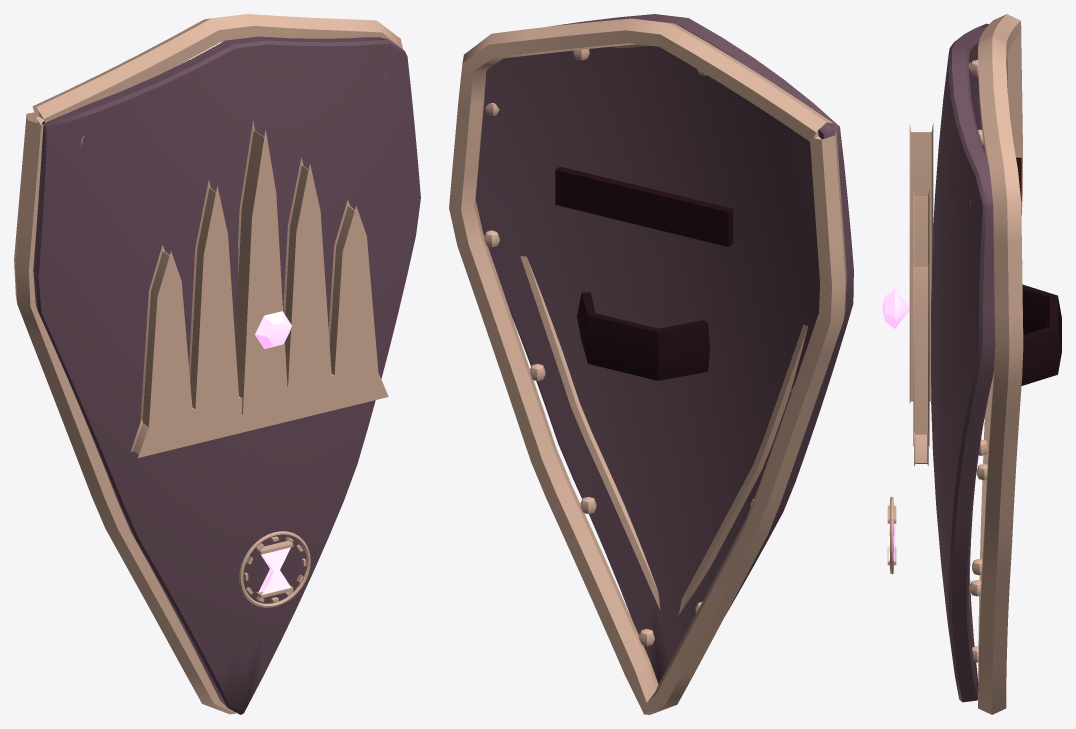
The model's file is asc_aeonbreaker_shield.glb.
The picture shows the model from 3 angles, left to right: view 1: azimuth 30°, elevation 25°; view 2: azimuth 150°, elevation 25°; view 3: azimuth 270°, elevation 25°; orthographic projection. The views are drawn at different scales.
Visible parts, largest first — view 1: asc_aeonbreaker_shield; view 2: asc_aeonbreaker_shield; view 3: asc_aeonbreaker_shield.
Boxes of the visible parts, <box> form: asc_aeonbreaker_shield: <box>14,14,420,714</box>; asc_aeonbreaker_shield: <box>449,14,853,714</box>; asc_aeonbreaker_shield: <box>882,14,1061,714</box>.
Bounding box in the file's own units: 0.5917 × 0.997 × 0.2441.
